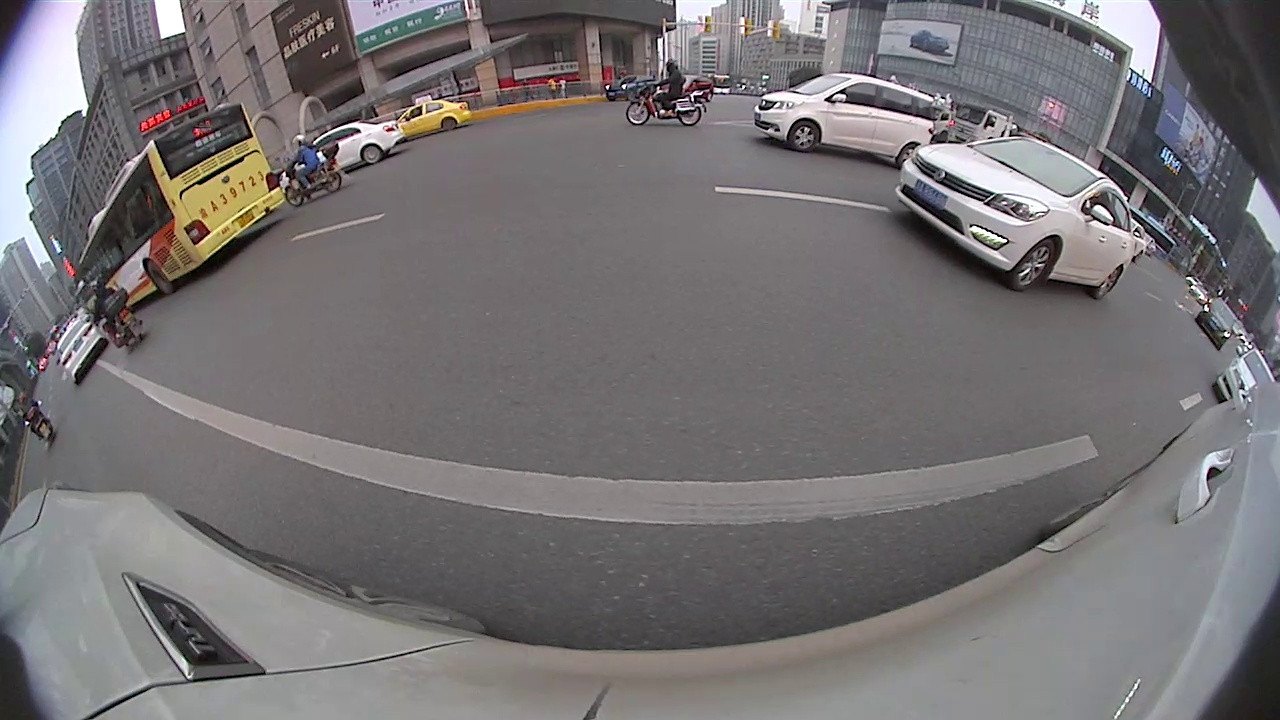bus: (74, 93, 281, 318)
car: (898, 137, 1143, 302), (753, 71, 941, 168), (302, 116, 406, 182), (386, 91, 477, 141), (1213, 348, 1278, 410), (50, 318, 109, 386), (1194, 296, 1242, 353)
front: (1007, 236, 1055, 295), (788, 118, 820, 153), (625, 99, 650, 128), (282, 184, 307, 209)
rear: (144, 257, 174, 296), (1093, 266, 1121, 302), (893, 142, 919, 171), (676, 104, 704, 128), (360, 144, 384, 167), (321, 172, 341, 193), (439, 115, 459, 132)
rider: (624, 62, 714, 129), (84, 280, 141, 353), (283, 136, 340, 208), (17, 392, 61, 451)
